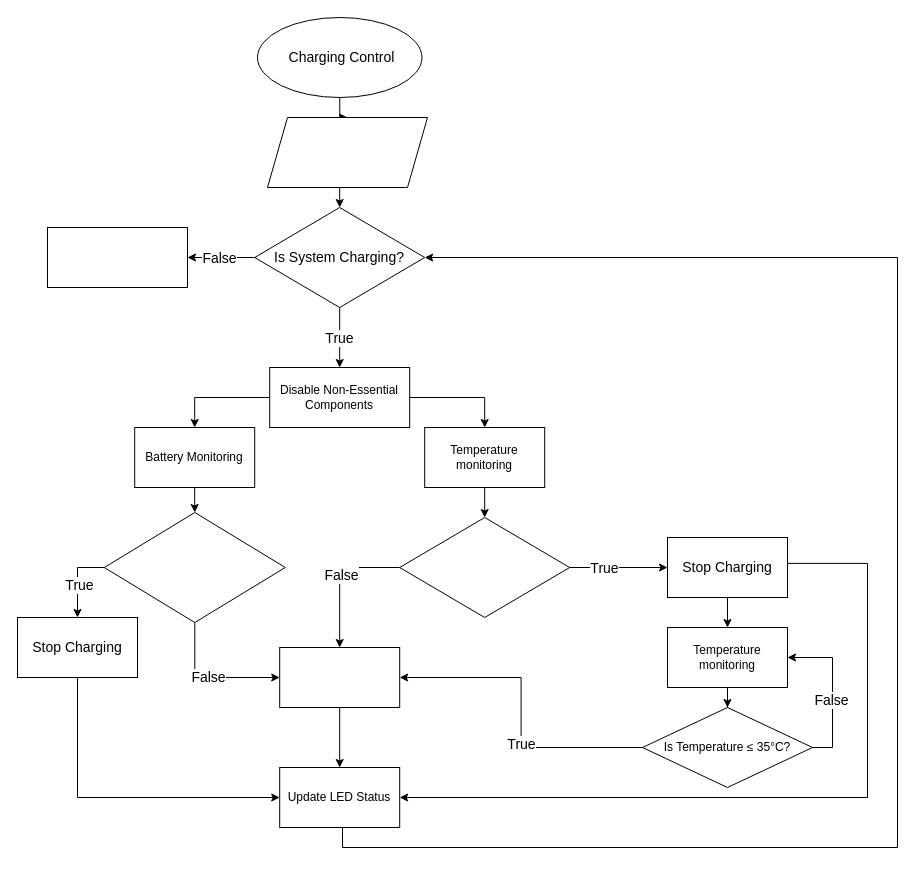
Some shapes in this 923 by 873 pixel diagram are drawn without their labels. Here are the shapes that lost their labels. From the top down, the centre of each, then its label:
At [347,152]: "Inputs: Battery , Temperature".
At [117,257]: "Enable Non-Essential Components".
At [194,567]: "Is Battery Voltage ≥ Maximum Voltage?".
At [484,567]: "Is Temperature ≥ 45°C?".
At [339,677]: "Start Charging".
